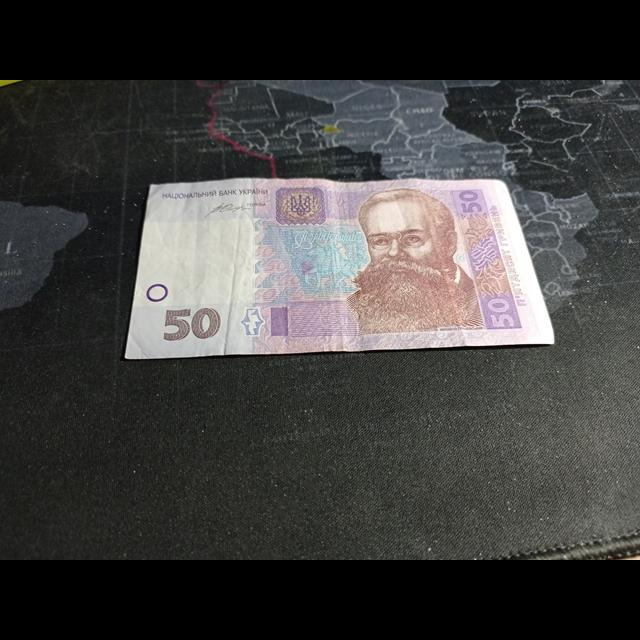50uah: (123, 181, 558, 359)
